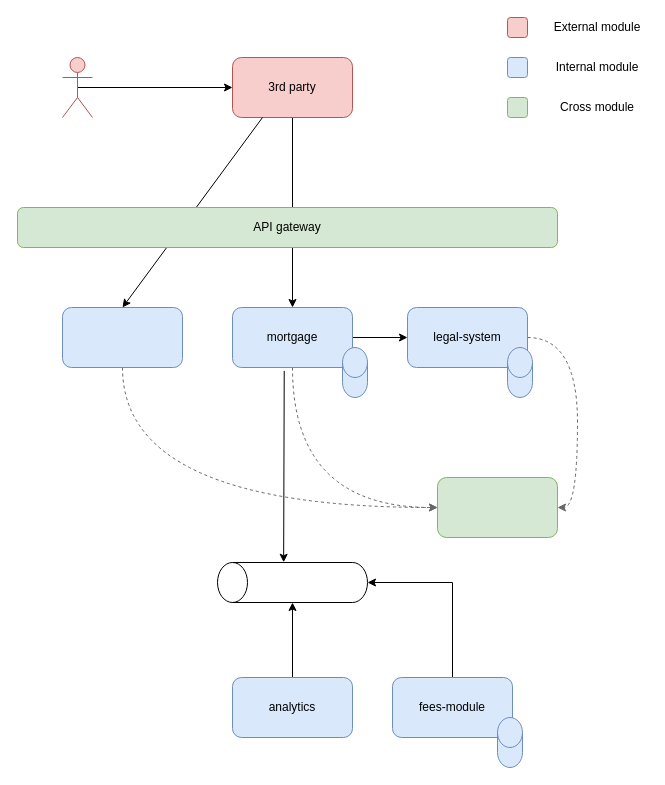
This 665x785 diagram has some shape labels left out. Here are the shapes that lost their labels. From the top down, the centre of each, then its label:
the point at 77,87: customer
the point at 122,337: company-mgm
the point at 497,507: Service Discovery
